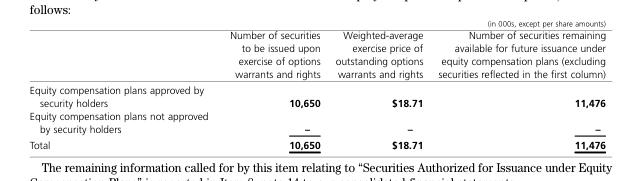table: (28, 29, 605, 150)
table column: (28, 29, 218, 150), (429, 29, 605, 150), (218, 29, 327, 150), (327, 29, 429, 150)
table column header: (28, 29, 605, 81)
table row: (28, 29, 605, 81), (28, 108, 605, 136), (28, 81, 605, 108), (28, 136, 605, 150)
